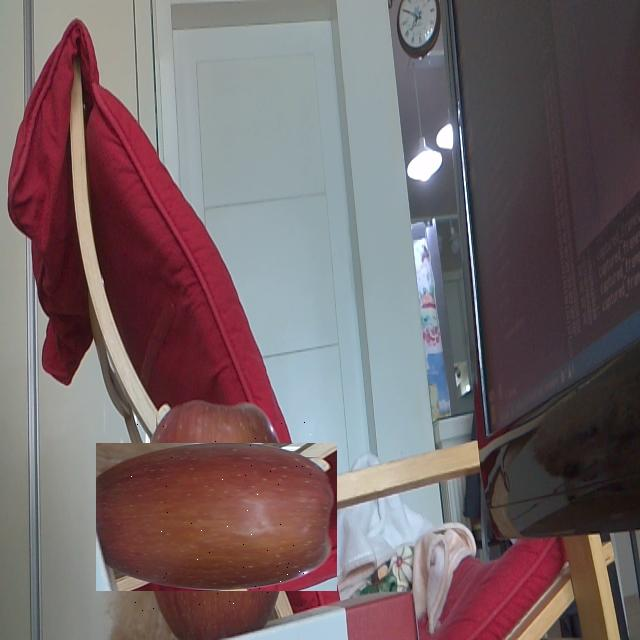apple: (118, 419, 314, 615)
